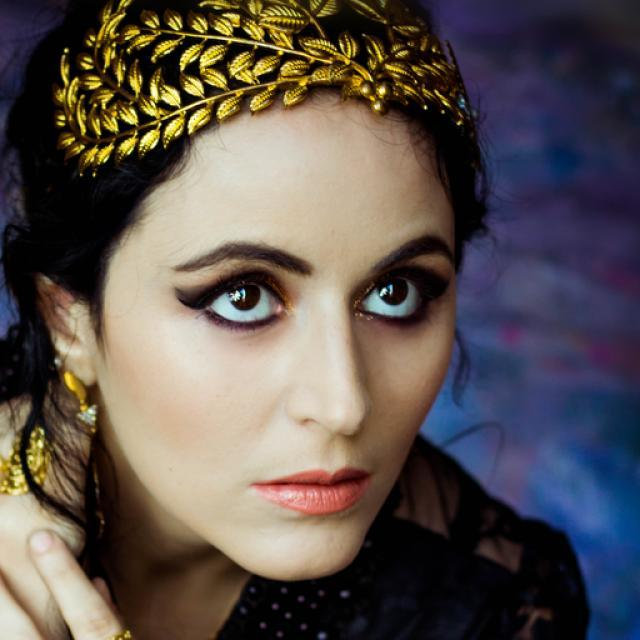neutral: (98, 86, 460, 579)
